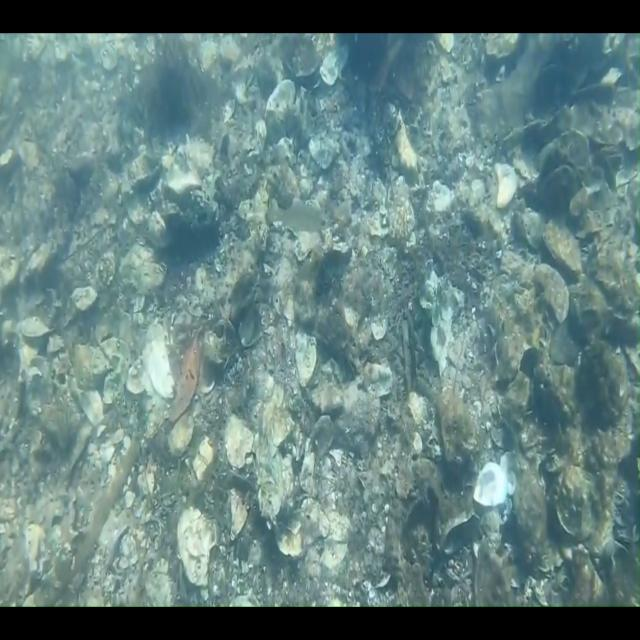Oyster-Closed: (504, 193, 599, 291), (552, 464, 612, 556), (126, 322, 180, 401), (178, 507, 216, 587), (278, 31, 338, 79), (439, 498, 480, 553), (502, 369, 536, 416)
Oyster-Open: (473, 461, 508, 508)
